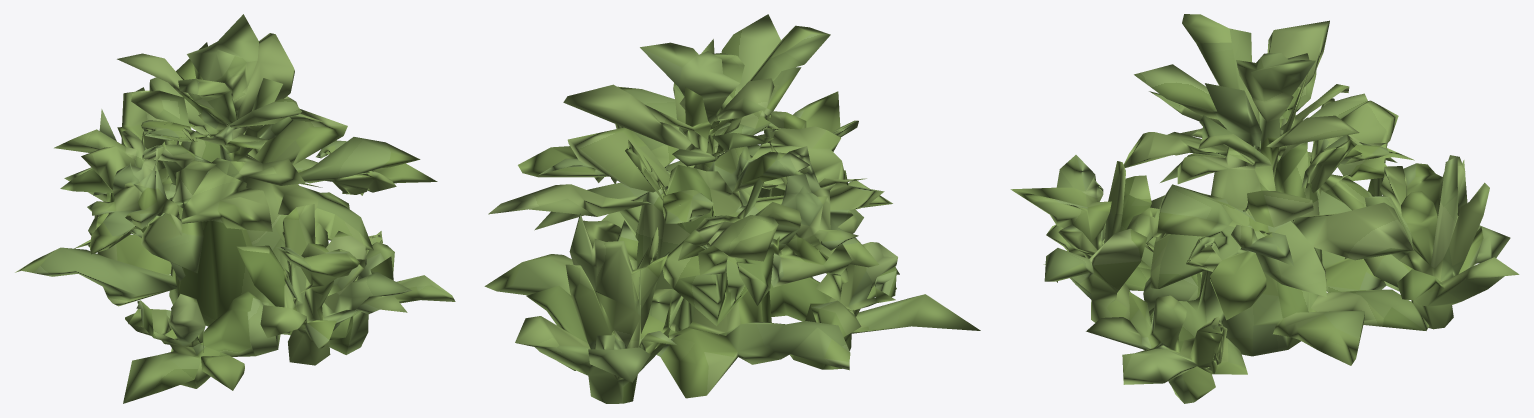
The model's file is gather_herb_cluster.glb.
The picture shows the model from 3 angles, left to right: view 1: azimuth 30°, elevation 25°; view 2: azimuth 150°, elevation 25°; view 3: azimuth 270°, elevation 25°; orthographic projection. The views are drawn at different scales.
Visible parts, largest first — view 1: tripo_node_781a03d6-e060-4835-b3aa-1dbc78270b06; view 2: tripo_node_781a03d6-e060-4835-b3aa-1dbc78270b06; view 3: tripo_node_781a03d6-e060-4835-b3aa-1dbc78270b06.
Part boxes in pixels (x1=…): tripo_node_781a03d6-e060-4835-b3aa-1dbc78270b06: x1=15, y1=14, x2=455, y2=403; tripo_node_781a03d6-e060-4835-b3aa-1dbc78270b06: x1=484, y1=14, x2=980, y2=403; tripo_node_781a03d6-e060-4835-b3aa-1dbc78270b06: x1=1010, y1=14, x2=1519, y2=403.
Size of the model in its own units: 0.8665 by 0.6822 by 0.9989.
1 material, 1 textured.
